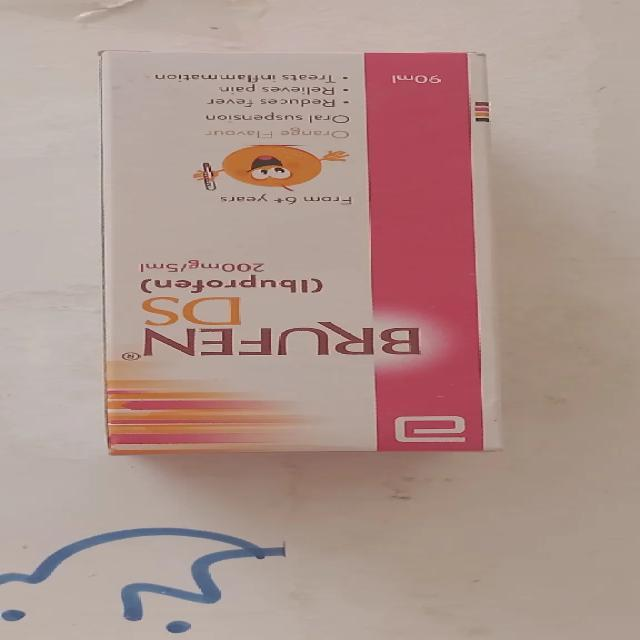drug-name: (139, 298, 423, 360)
